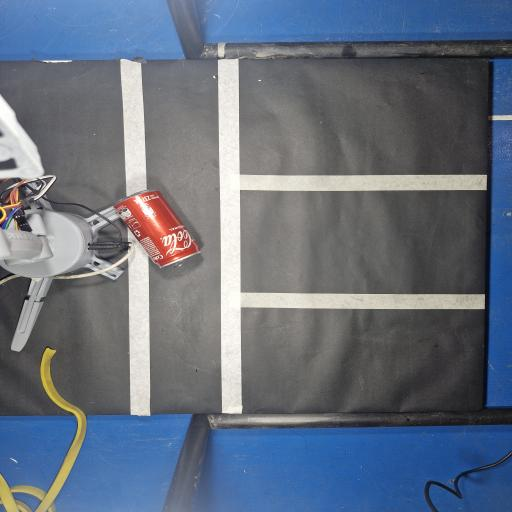lata: (114, 190, 200, 267)
